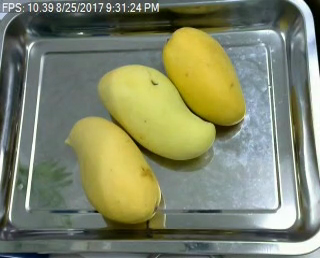Mango: (96, 64, 215, 160), (67, 115, 161, 221), (164, 25, 246, 126)
